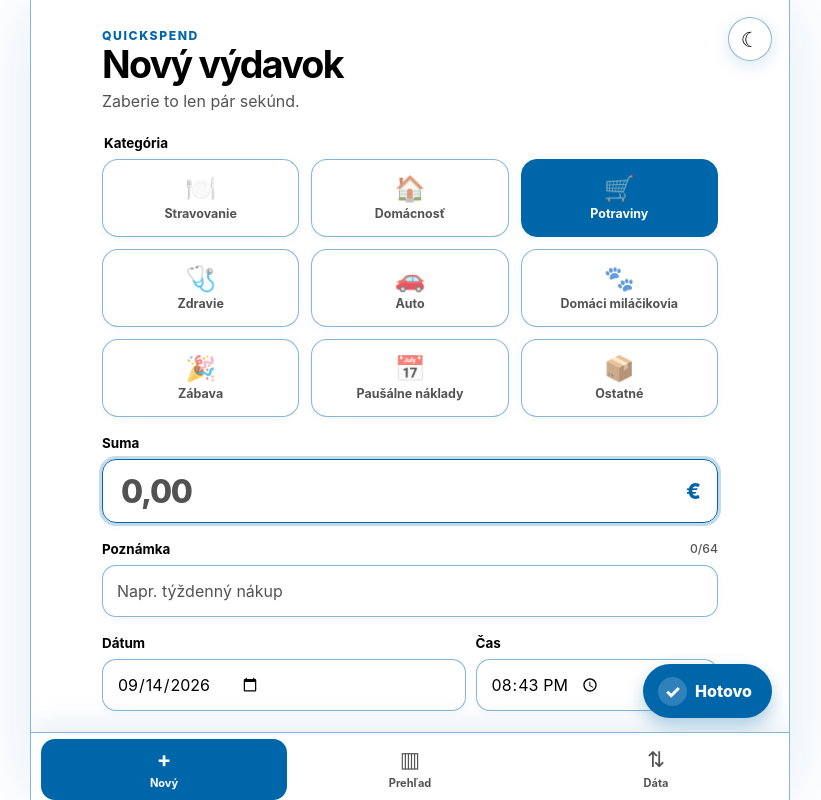
QuickSpend app flow › starts on entry, saves locally, and opens the overview
Check: the heading "Nový výdavok" is shown, box x1=102 y1=42 x2=343 y2=87
Type "8,90" into the field labelled "Suma". click: (402, 492)
box: x1=119 y1=460 x2=686 y2=522
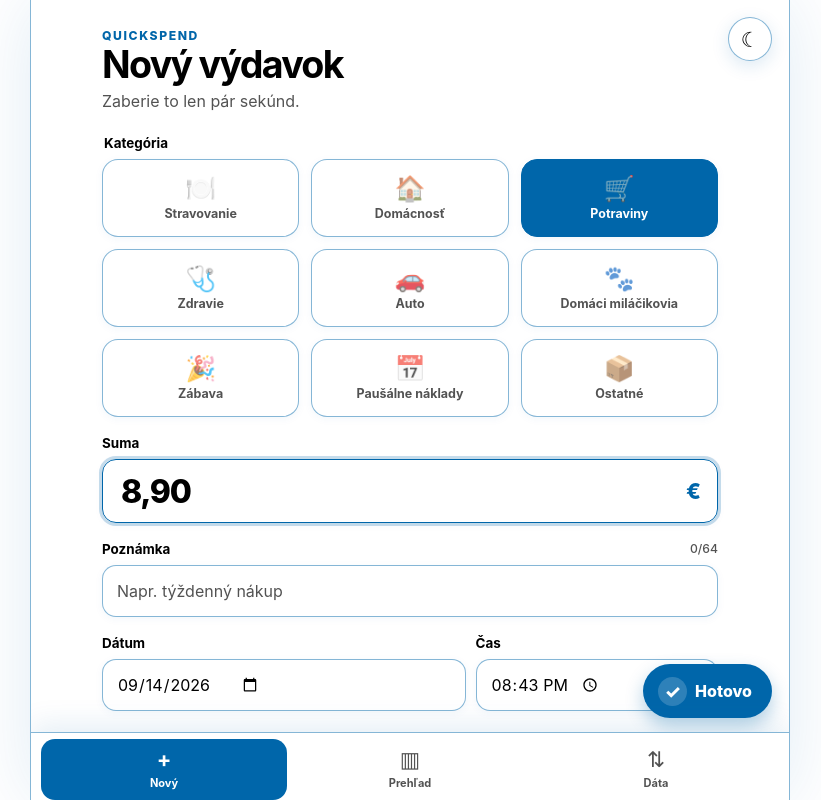
Type "Desiata" into the field labelled "Poznámka 0/64". click: (410, 592)
box: x1=102 y1=566 x2=718 y2=618
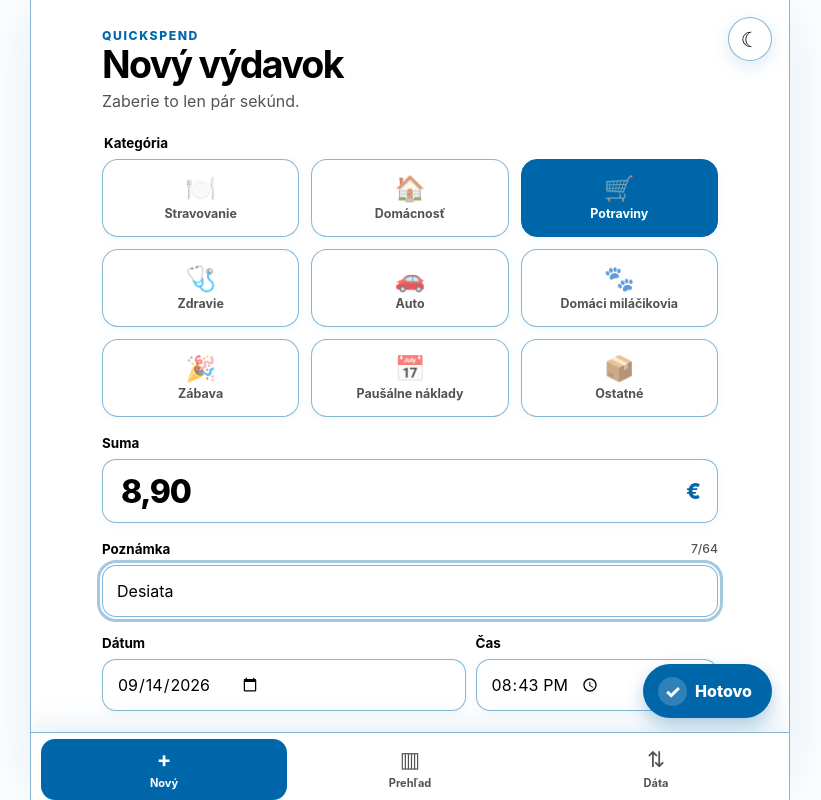
Click the button with aria-label "Uložiť výdavok". click: (708, 691)
box: x1=643 y1=664 x2=772 y2=718
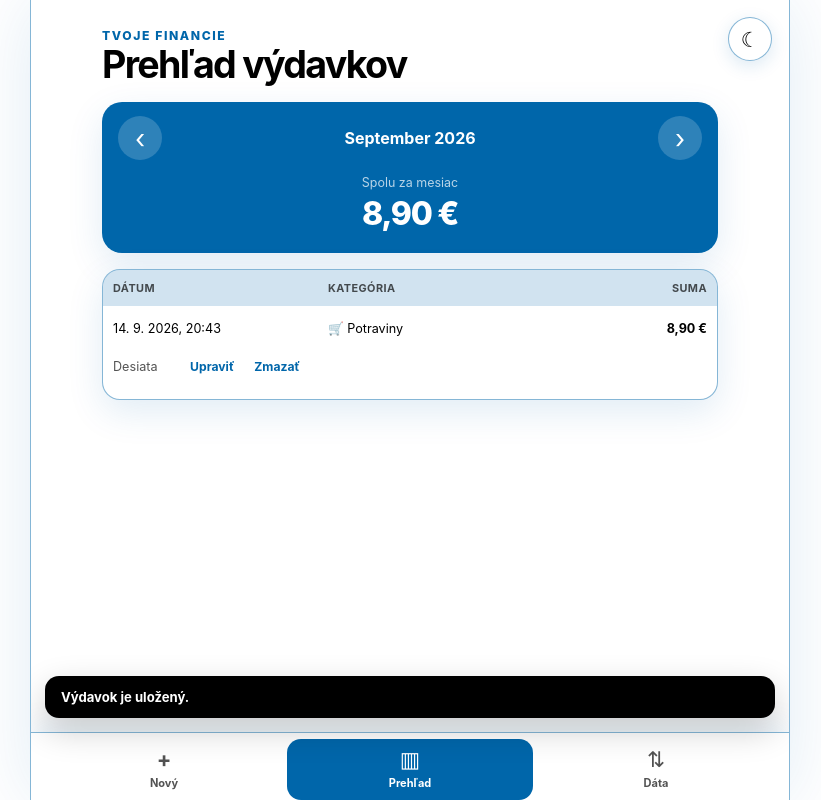
Check: the heading "Prehľad výdavkov" is shown, box x1=102 y1=42 x2=406 y2=87
Check: the text "Desiata" is shown, box x1=113 y1=359 x2=158 y2=374
